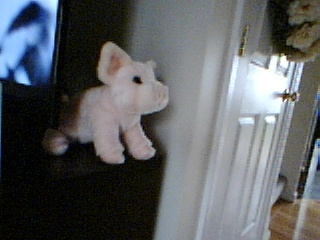piggy: (60, 41, 170, 165)
